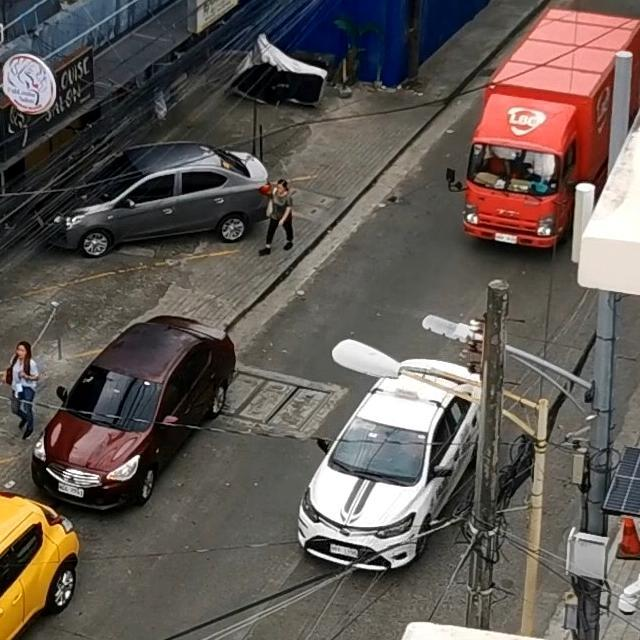Truck: (449, 0, 640, 263)
